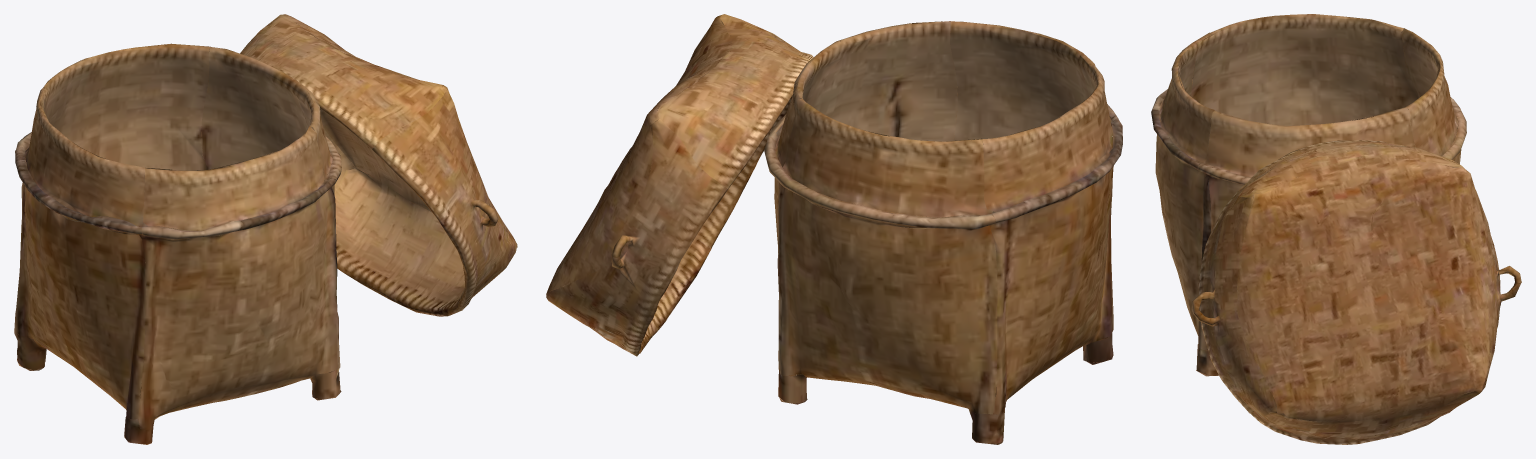
File: wicker_basket_02.glb
The picture shows the model from 3 angles, left to right: view 1: azimuth 30°, elevation 25°; view 2: azimuth 150°, elevation 25°; view 3: azimuth 270°, elevation 25°; orthographic projection. The views are drawn at different scales.
Visible parts, largest first — view 1: wicker_basket_02_base, wicker_basket_02_lid; view 2: wicker_basket_02_base, wicker_basket_02_lid; view 3: wicker_basket_02_lid, wicker_basket_02_base.
Boxes of the visible parts, x1=… form: wicker_basket_02_base: x1=14, y1=43, x2=341, y2=444; wicker_basket_02_lid: x1=240, y1=14, x2=517, y2=316; wicker_basket_02_base: x1=764, y1=21, x2=1122, y2=444; wicker_basket_02_lid: x1=546, y1=14, x2=813, y2=356; wicker_basket_02_lid: x1=1192, y1=140, x2=1521, y2=444; wicker_basket_02_base: x1=1151, y1=14, x2=1466, y2=376.
Bounding box in the file's own units: 0.3465 × 0.2005 × 0.2545.
1 material, 1 textured.
